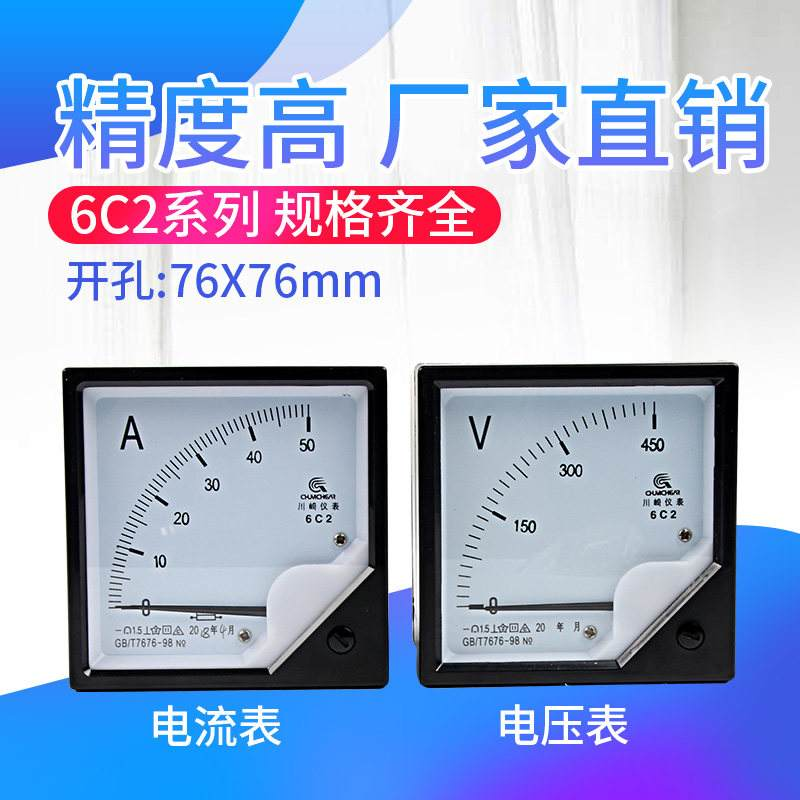pointer: (78, 385, 371, 669), (438, 387, 716, 664)
